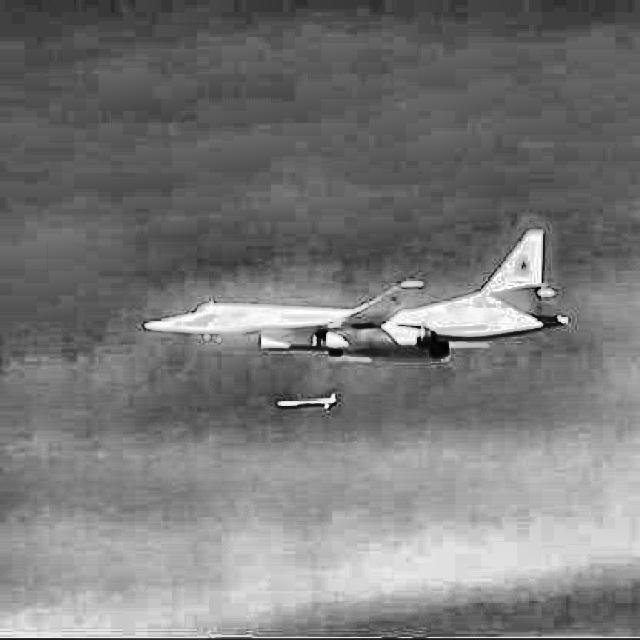Tu160: (144, 229, 571, 360)
